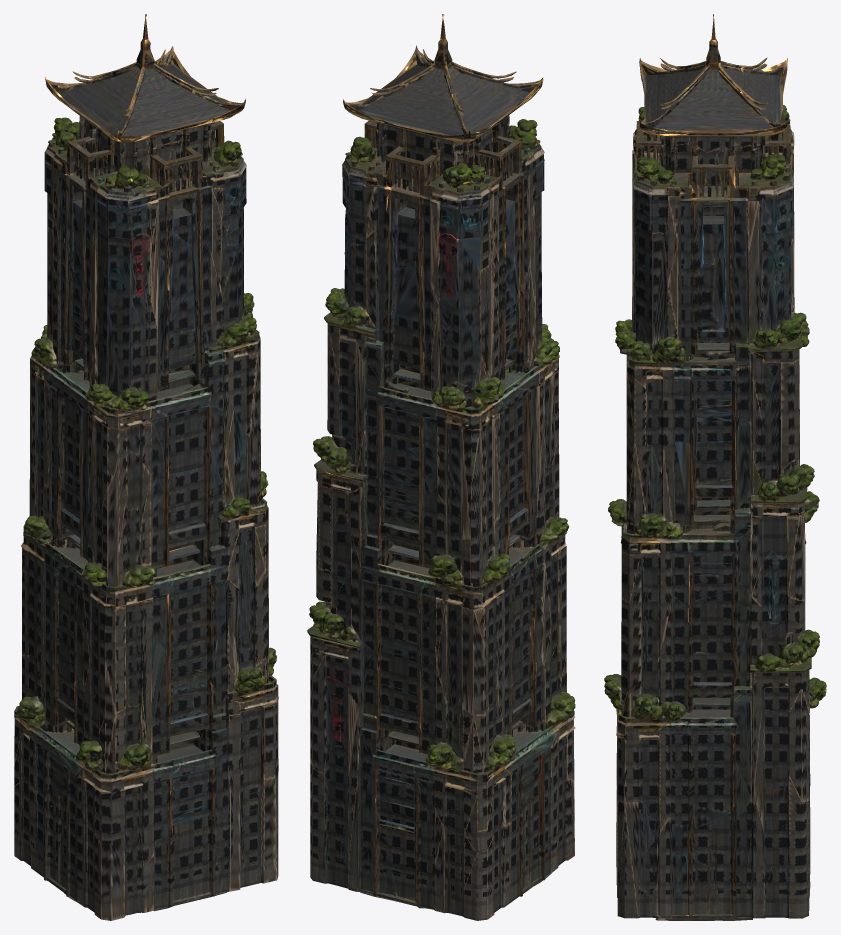
3 views of the same model, side by side, from view 1: azimuth 30°, elevation 25°; view 2: azimuth 150°, elevation 25°; view 3: azimuth 270°, elevation 25° (orthographic).
Parts seen in each view (by area): view 1: t01; view 2: t01; view 3: t01.
Boxes of the visible parts, box(x1,y1,x2,y2) form: t01: box(14, 14, 278, 920); t01: box(307, 14, 575, 920); t01: box(604, 14, 826, 920).
Size of the model in its own units: 48.7 by 200 by 46.74.
1 material, 1 textured.
